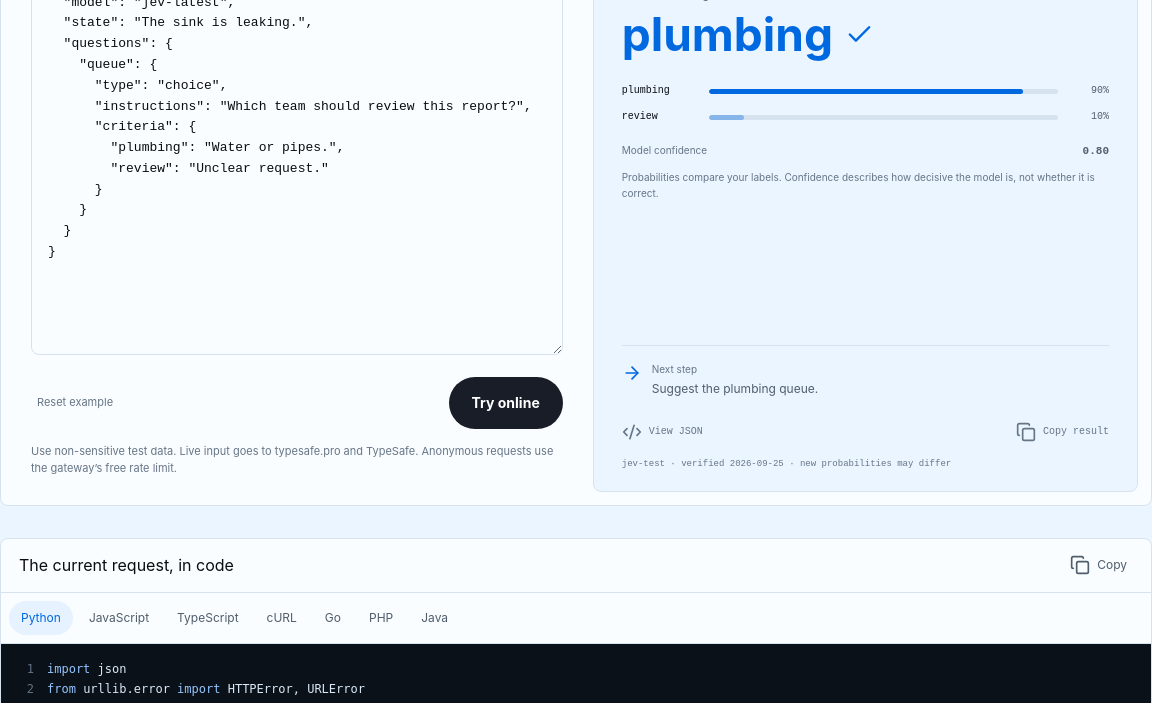
Scenario: use-case request lifecycle › uses its own twenty-second timeout and leaves the answer empty
(page scrolled)
Click the button "Try online": click(506, 403) [449,377,563,429]
Wait 20000 ms
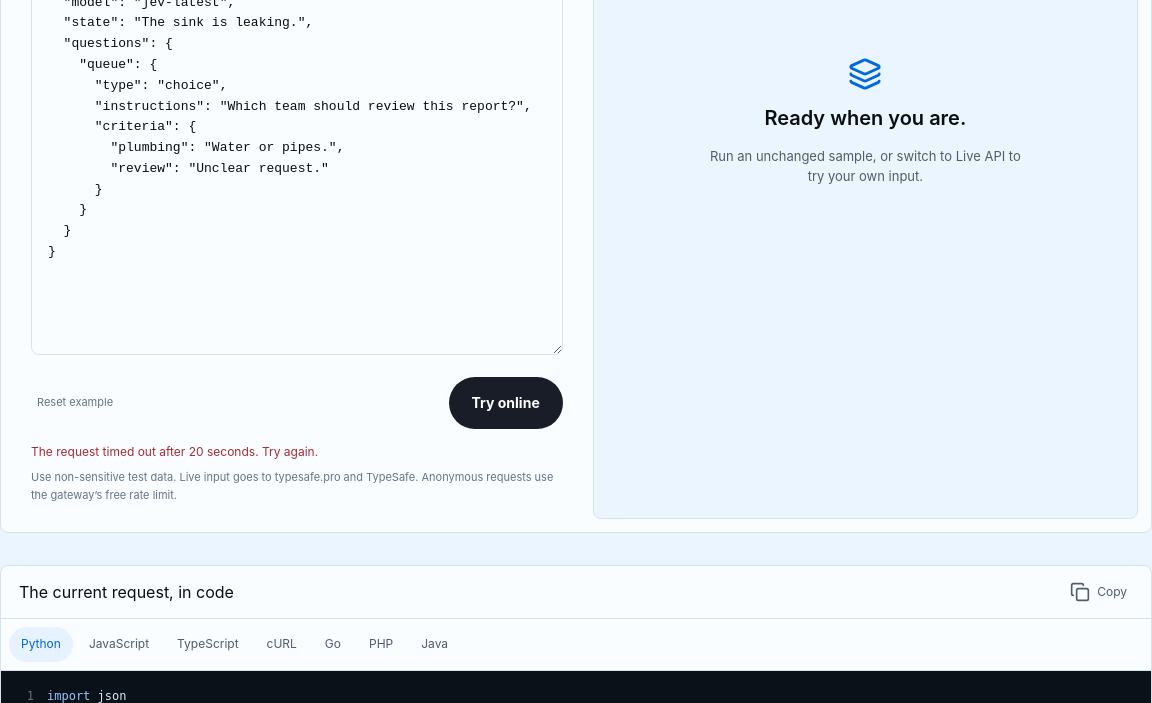
Expected: the text "The request timed out after 20 seconds. Try again." is shown, [31,444,318,459]
Expected: the heading "Ready when you are." is shown, [764,103,966,134]
